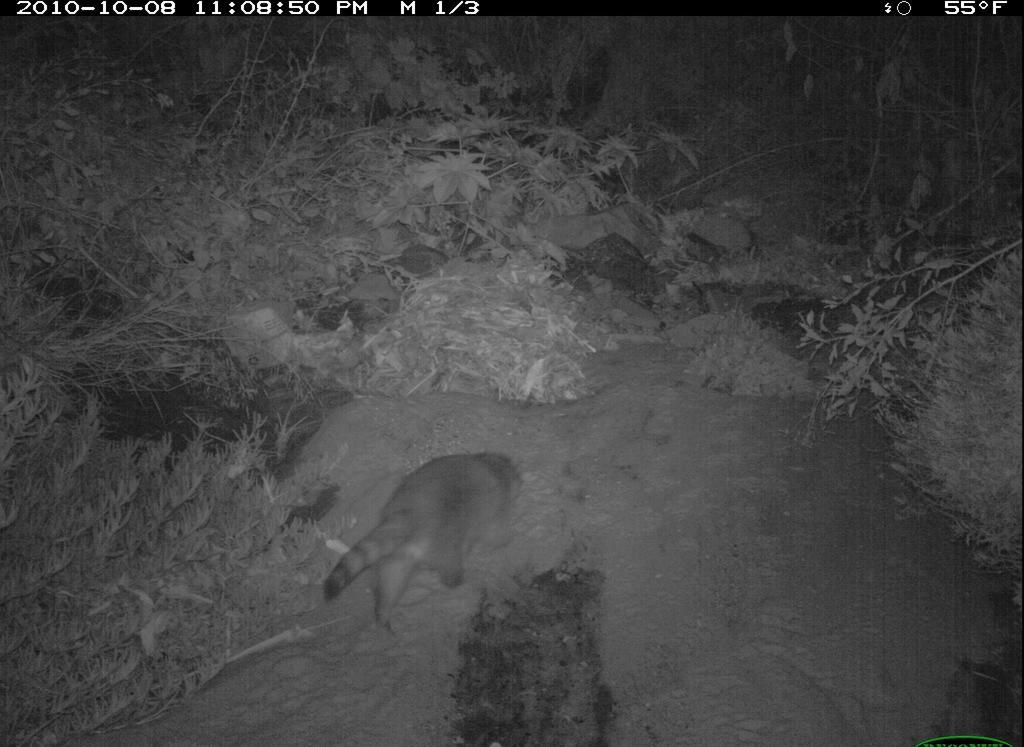raccoon: (291, 443, 557, 638)
